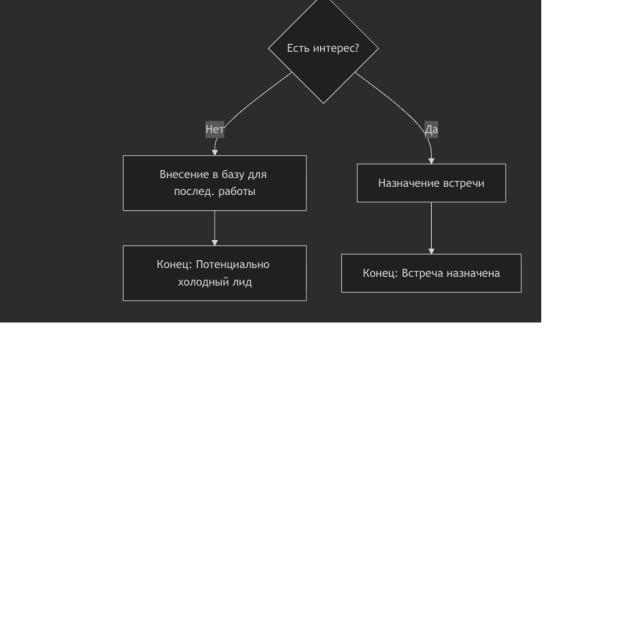arrow: (355, 71, 435, 163), (211, 74, 289, 157), (428, 204, 435, 254), (212, 211, 218, 247)
rectangle: (123, 154, 307, 212), (123, 246, 308, 302), (342, 253, 521, 293), (356, 164, 506, 203)
text_region: (205, 121, 225, 138), (426, 121, 439, 139)
